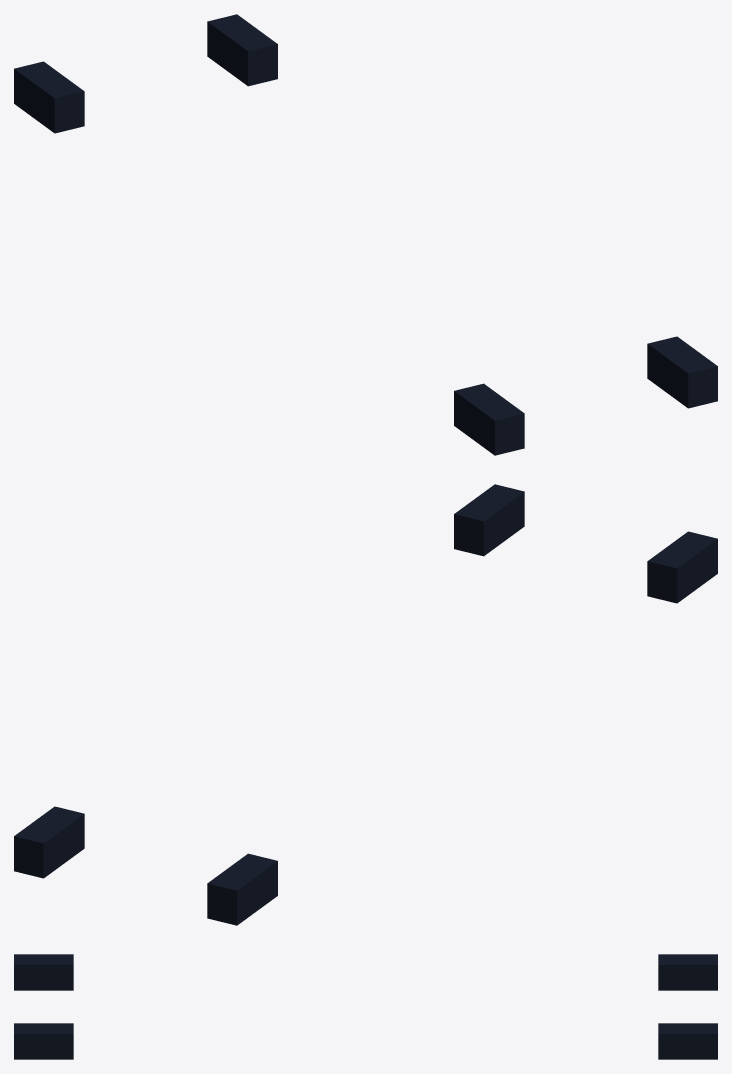
The model's file is crash_boxes.glb.
The picture shows the model from 3 angles, top to bottom: view 1: azimuth 30°, elevation 25°; view 2: azimuth 150°, elevation 25°; view 3: azimuth 270°, elevation 25°; orthographic projection. The views are drawn at different scales.
Visible parts, largest first — view 1: Crash_Box_Front_X-0.52, Crash_Box_Rear_X-0.52, Crash_Box_Front_X0.52, Crash_Box_Rear_X0.52; view 2: Crash_Box_Front_X-0.52, Crash_Box_Rear_X-0.52, Crash_Box_Front_X0.52, Crash_Box_Rear_X0.52; view 3: Crash_Box_Front_X-0.52, Crash_Box_Rear_X-0.52, Crash_Box_Front_X0.52, Crash_Box_Rear_X0.52.
Part boxes in pixels (<box>): Crash_Box_Front_X-0.52: <box>14,61,84,133</box>; Crash_Box_Rear_X-0.52: <box>454,383,524,455</box>; Crash_Box_Front_X0.52: <box>207,14,277,86</box>; Crash_Box_Rear_X0.52: <box>647,336,717,408</box>; Crash_Box_Front_X-0.52: <box>207,853,277,925</box>; Crash_Box_Rear_X-0.52: <box>647,531,717,603</box>; Crash_Box_Front_X0.52: <box>14,806,84,878</box>; Crash_Box_Rear_X0.52: <box>454,484,524,556</box>; Crash_Box_Front_X-0.52: <box>658,954,717,990</box>; Crash_Box_Rear_X-0.52: <box>14,954,73,990</box>; Crash_Box_Front_X0.52: <box>658,1023,717,1059</box>; Crash_Box_Rear_X0.52: <box>14,1023,73,1059</box>.
Bounding box in the file's own units: 1.2 × 0.18 × 4.48.
